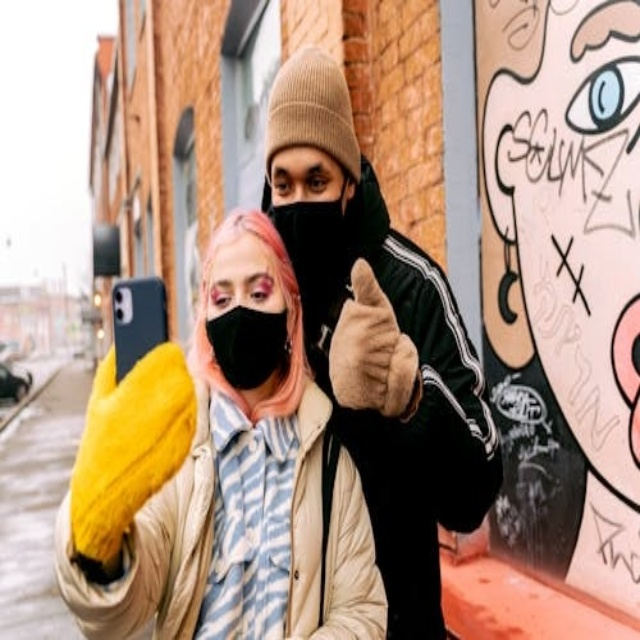Guantes: (47, 317, 193, 563), (321, 252, 422, 423)
Mascara: (267, 193, 356, 330), (207, 304, 290, 388)
Sin_gafas: (207, 271, 274, 308), (268, 161, 334, 198)
Sin_mascara: (611, 295, 639, 427), (500, 3, 539, 50)
